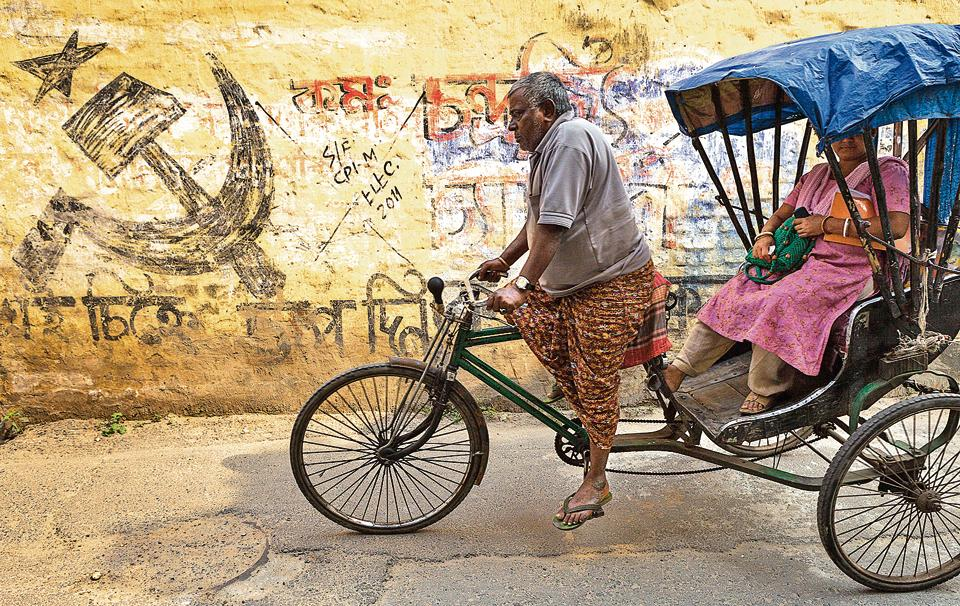Rickshaw: (311, 33, 959, 591)
